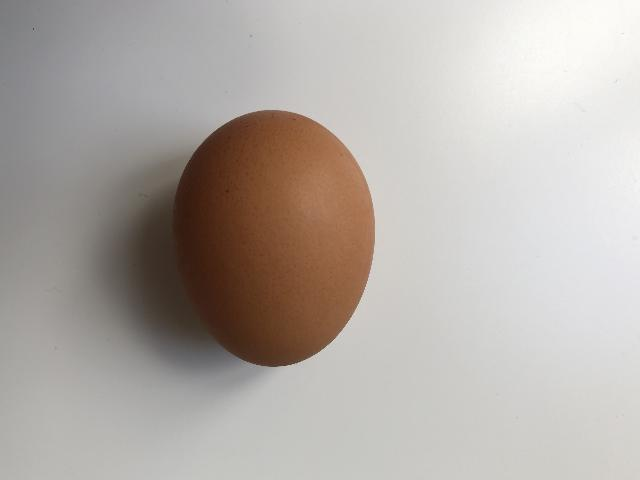Sano: (170, 108, 376, 367)
